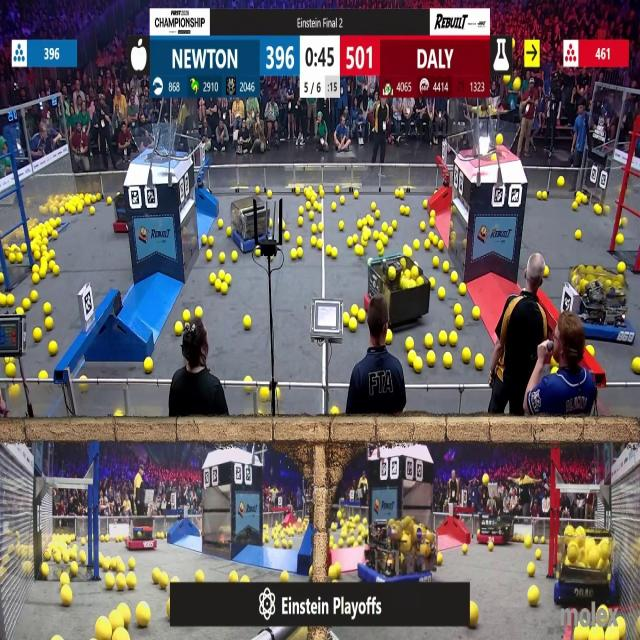ball_airborne: (515, 78, 522, 89), (483, 476, 490, 486), (496, 135, 502, 145), (503, 75, 509, 83), (492, 153, 497, 160)
ball_ground: (94, 618, 110, 640), (137, 606, 150, 629), (468, 605, 478, 629), (528, 587, 539, 607), (62, 588, 73, 606), (117, 574, 128, 592), (121, 610, 130, 629), (105, 572, 115, 589), (461, 348, 470, 364), (328, 565, 338, 579), (144, 357, 153, 372), (440, 332, 449, 347), (261, 387, 271, 400), (128, 572, 136, 588), (48, 342, 57, 356), (414, 358, 423, 372), (161, 574, 170, 588), (573, 628, 584, 639), (632, 357, 640, 372), (444, 353, 452, 368), (6, 362, 14, 376), (425, 335, 433, 349), (244, 316, 252, 330), (70, 562, 78, 576), (41, 564, 49, 578), (474, 355, 482, 369), (349, 318, 357, 332), (152, 569, 160, 583), (230, 570, 240, 581), (194, 570, 203, 582), (426, 352, 434, 365), (44, 317, 52, 330), (408, 352, 416, 365), (61, 573, 70, 584), (451, 333, 458, 347), (528, 562, 535, 576), (471, 308, 479, 320), (194, 307, 202, 319), (34, 328, 42, 340), (407, 339, 415, 351), (357, 311, 365, 323), (386, 332, 393, 345), (175, 321, 182, 334), (281, 570, 289, 581), (456, 316, 463, 328), (290, 248, 297, 260), (439, 287, 446, 299), (31, 290, 38, 302), (24, 300, 31, 312), (435, 554, 442, 566), (39, 268, 46, 280), (32, 274, 40, 284), (402, 246, 410, 256), (116, 562, 124, 572), (459, 283, 466, 294), (224, 274, 231, 285), (210, 274, 217, 285), (343, 313, 350, 324), (183, 310, 189, 322), (44, 304, 50, 316), (39, 369, 47, 378), (558, 176, 564, 188), (330, 408, 338, 417), (0, 293, 6, 305), (316, 239, 324, 248), (110, 558, 116, 570), (100, 556, 106, 568), (444, 263, 451, 273), (454, 306, 461, 316), (595, 205, 602, 215), (355, 245, 362, 255), (220, 284, 227, 294), (588, 346, 595, 356), (54, 267, 61, 277), (34, 250, 41, 260), (361, 232, 368, 242), (452, 273, 458, 284), (130, 559, 136, 570), (331, 247, 337, 258), (620, 264, 626, 275), (296, 248, 302, 259), (432, 256, 438, 267), (430, 278, 436, 289), (80, 553, 86, 564), (351, 306, 357, 317), (214, 280, 220, 291), (242, 574, 250, 582), (76, 205, 84, 213), (414, 241, 421, 250), (324, 246, 331, 255), (172, 574, 179, 583), (574, 231, 580, 241), (340, 220, 346, 230), (7, 294, 13, 304), (233, 252, 239, 262), (618, 235, 624, 245), (208, 237, 214, 247), (542, 268, 548, 278), (440, 241, 446, 251), (206, 250, 212, 260), (306, 202, 312, 212), (552, 358, 558, 368), (372, 230, 378, 240), (353, 235, 359, 245), (314, 202, 320, 212), (49, 264, 55, 274), (64, 554, 70, 564), (576, 192, 582, 202), (338, 512, 344, 522), (245, 376, 252, 384), (356, 220, 363, 228), (219, 252, 225, 261), (284, 233, 290, 242), (297, 216, 303, 225), (348, 238, 354, 247), (312, 223, 318, 232), (424, 241, 430, 250), (462, 543, 468, 552), (385, 227, 391, 236), (51, 231, 57, 240), (202, 237, 208, 246), (16, 253, 22, 262), (398, 189, 404, 198), (348, 536, 354, 545), (583, 196, 589, 205), (296, 237, 301, 247), (312, 238, 317, 248), (368, 217, 373, 227), (307, 211, 312, 221), (218, 218, 223, 228), (361, 223, 368, 230), (115, 412, 122, 419), (268, 189, 274, 197), (254, 249, 260, 257), (377, 242, 383, 250), (318, 222, 324, 230), (297, 207, 303, 215), (219, 273, 225, 281), (16, 308, 22, 316), (541, 191, 547, 199), (394, 189, 400, 197), (429, 218, 435, 226), (22, 244, 28, 252), (421, 221, 426, 230), (49, 250, 54, 259), (370, 203, 375, 212), (383, 237, 388, 246), (376, 210, 381, 219), (621, 217, 626, 226), (331, 523, 336, 532), (340, 538, 345, 547), (282, 538, 287, 547), (276, 387, 280, 398), (33, 266, 39, 273), (42, 238, 48, 245), (80, 375, 86, 382), (423, 201, 428, 209), (331, 204, 336, 212), (107, 198, 112, 206), (572, 203, 577, 211), (281, 222, 286, 230), (399, 207, 404, 215), (536, 190, 541, 198), (0, 274, 4, 284), (430, 210, 435, 218), (406, 208, 411, 216), (97, 192, 102, 200), (275, 539, 280, 547), (9, 254, 14, 262), (61, 208, 66, 216), (536, 551, 540, 560), (489, 541, 493, 550), (379, 250, 385, 256), (539, 536, 545, 542), (226, 226, 230, 235), (115, 535, 121, 541), (341, 198, 346, 205), (428, 233, 433, 240), (92, 207, 96, 215), (392, 220, 396, 228), (354, 190, 358, 198), (55, 636, 63, 640), (255, 186, 259, 193), (81, 537, 85, 544), (320, 190, 324, 197), (295, 188, 299, 195), (337, 186, 341, 193), (58, 218, 62, 225)
goal: (466, 123, 522, 161), (130, 130, 188, 160)
robot_blue: (362, 521, 440, 596), (557, 523, 615, 609), (576, 264, 632, 344), (228, 194, 270, 254)
robot_red: (366, 257, 428, 332), (478, 514, 514, 546), (126, 516, 156, 551)
